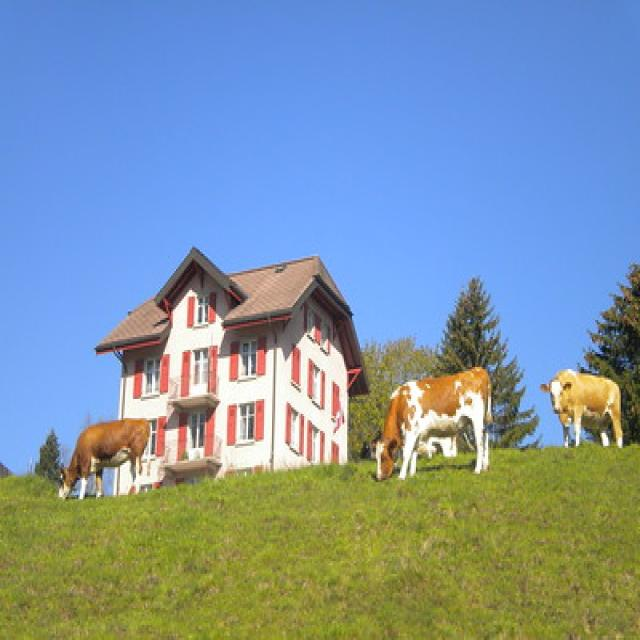building: (90, 241, 374, 506)
